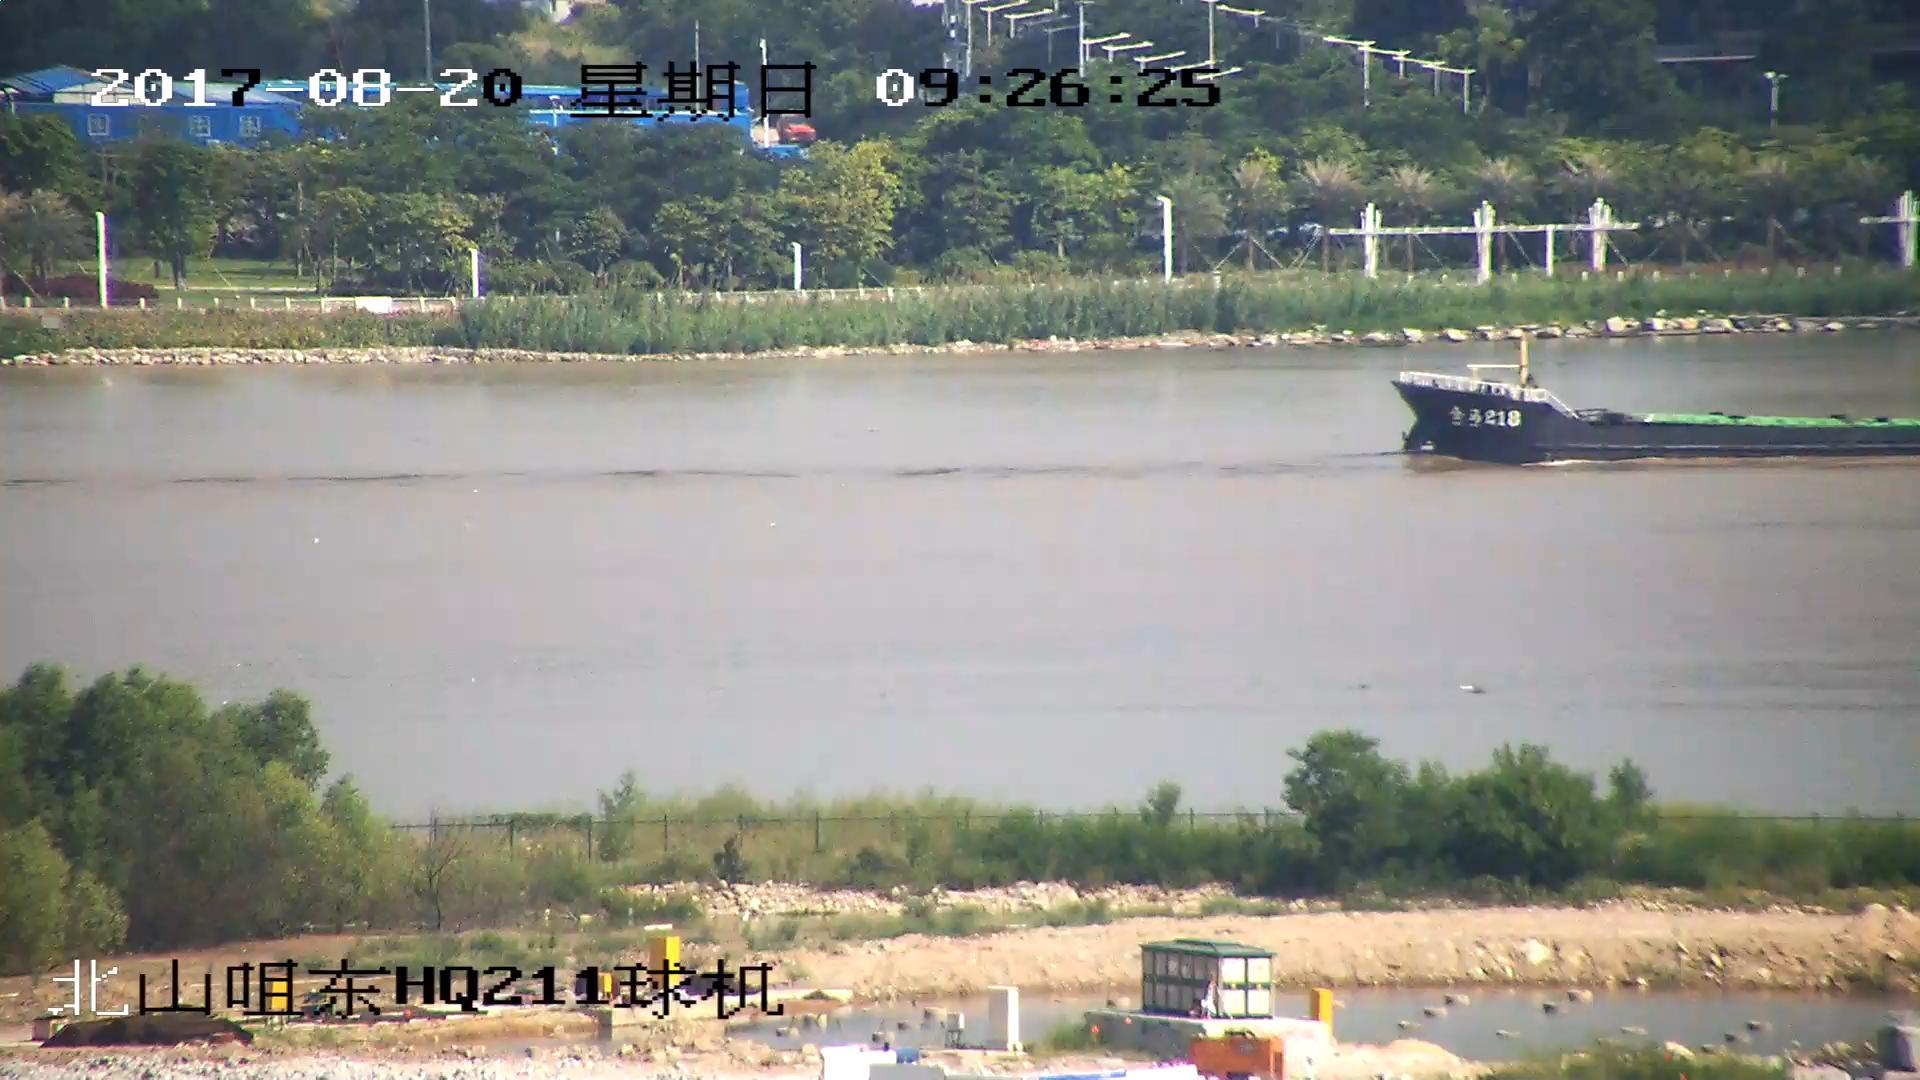Ship: (1396, 369, 1920, 465)
